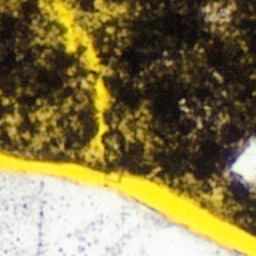cement_matrix: (89, 0, 255, 234), (0, 0, 97, 160), (72, 0, 98, 16), (207, 7, 228, 21), (38, 110, 51, 122), (8, 115, 16, 127), (33, 137, 42, 145)
cracks: (0, 0, 255, 255), (39, 111, 50, 121), (9, 116, 15, 126), (34, 138, 41, 144)
gravel_crushed_stones: (0, 170, 243, 255), (228, 137, 255, 188), (208, 8, 227, 20)
